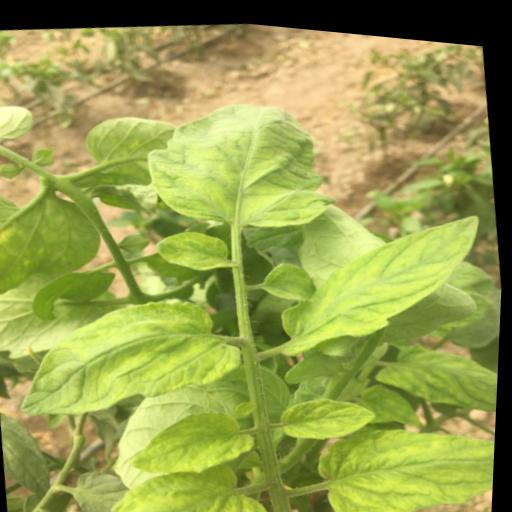Yellow Leaf Curl Virus: (267, 190, 496, 366), (7, 276, 235, 434), (135, 78, 343, 246), (312, 395, 499, 512), (81, 443, 278, 512), (370, 318, 502, 417), (123, 394, 266, 481), (281, 381, 380, 440), (149, 218, 235, 273)
